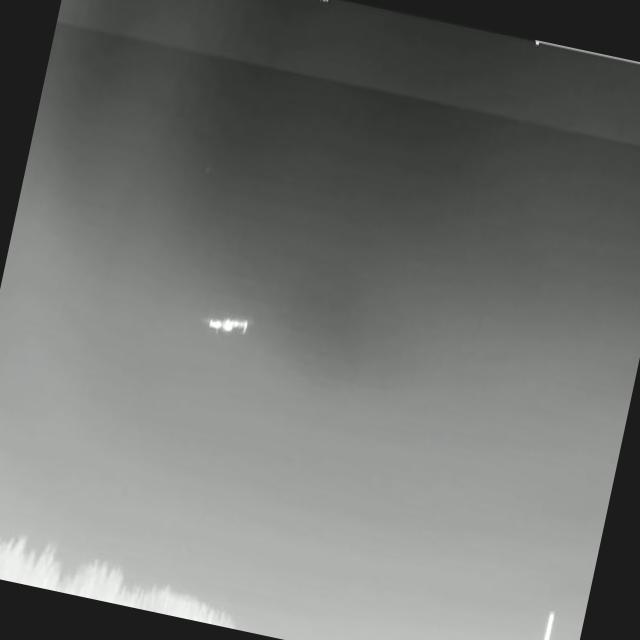DRONE: (192, 299, 264, 351)
